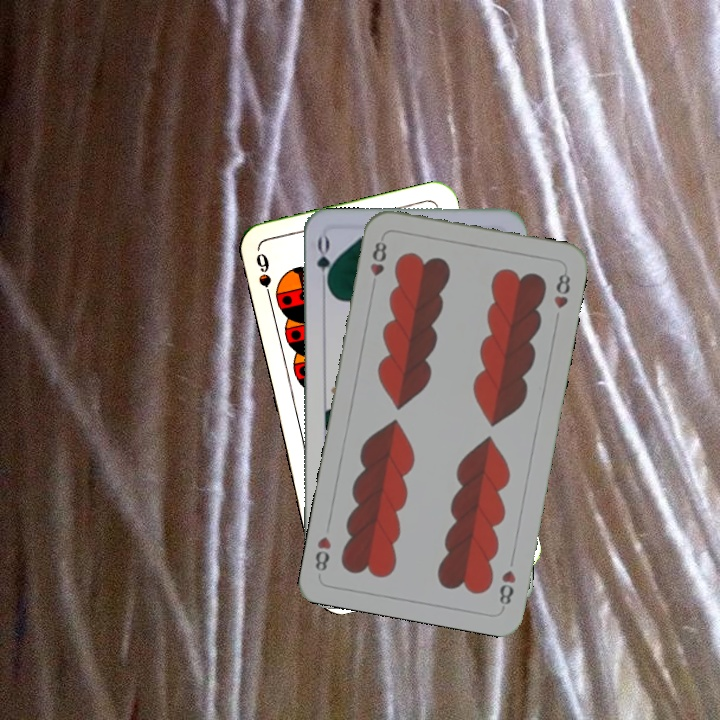GO: (313, 233, 334, 293)
H8: (495, 566, 519, 611), (366, 237, 390, 279)
S9: (252, 249, 275, 307)
